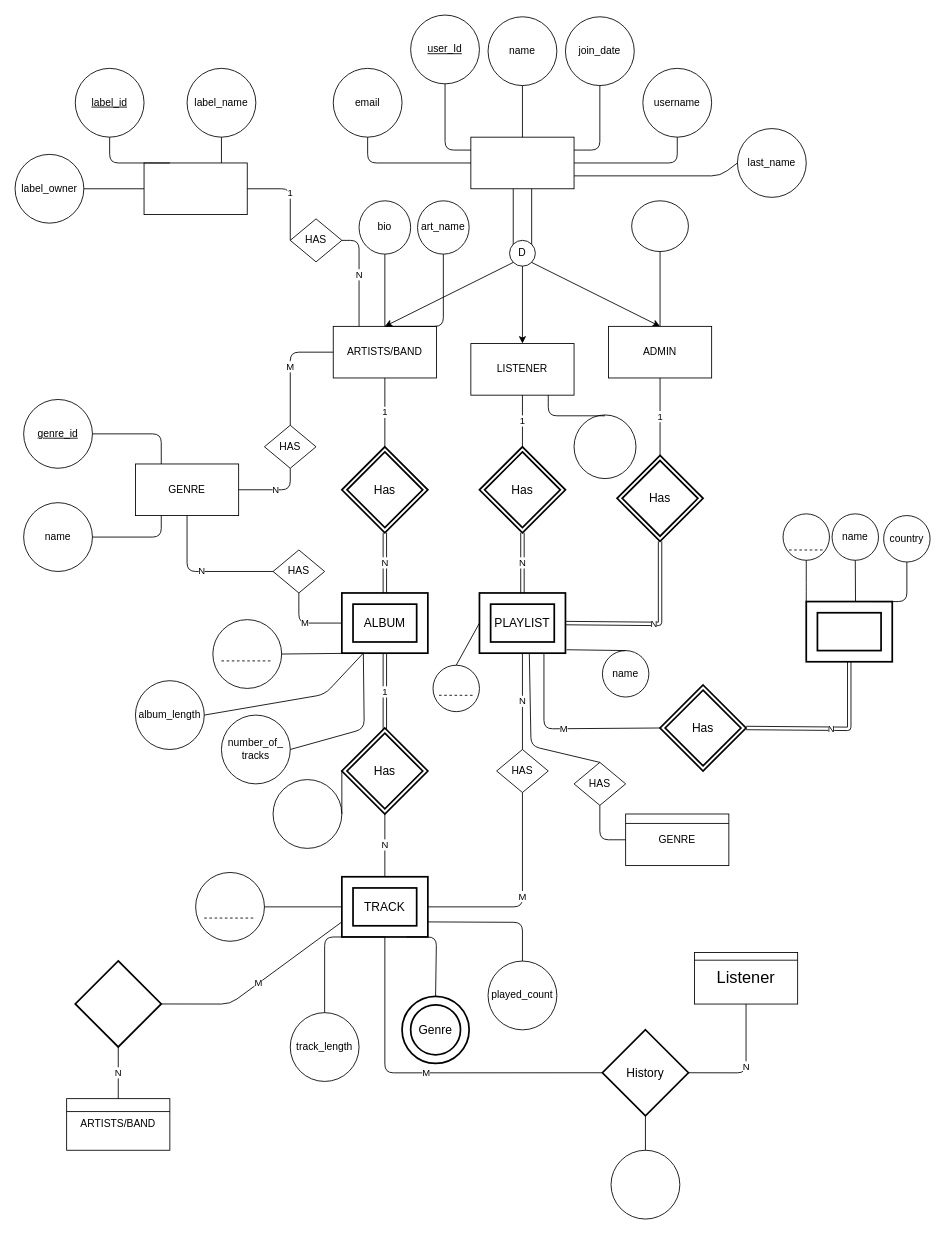
Some shapes in this 945 by 1234 pixel diagram are drawn without their labels. Each missing label, with the centre of its shape:
"access_type" belongs at pixel 659 226.
"album_name" belongs at pixel 247 653.
"Featuring" belongs at pixel 118 1003.
"Last Date Played" belongs at pixel 645 1184.
"Pid" belongs at pixel 455 688.
"RECORDLABEL" belongs at pixel 195 188.
"Sid" belongs at pixel 805 536.
"STATION" belongs at pixel 849 631.
"subscription type" belongs at pixel 604 446.
"track_name" belongs at pixel 229 906.
"track_number" belongs at pixel 307 813.
"USER" belongs at pixel 522 162.
